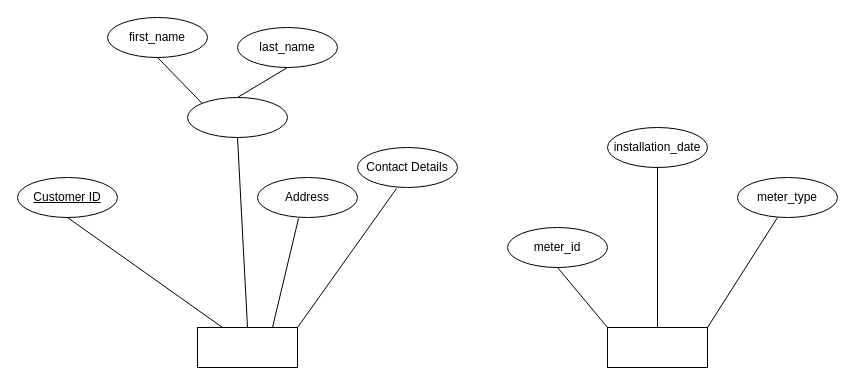
Some shapes in this 855 by 385 pixel diagram are drawn without their labels. Here are the shapes that lost their labels. From the top down, the centre of each, then its label:
At [237,117]: "Name".
At [247,347]: "Customer".
At [657,347]: "Meter".
